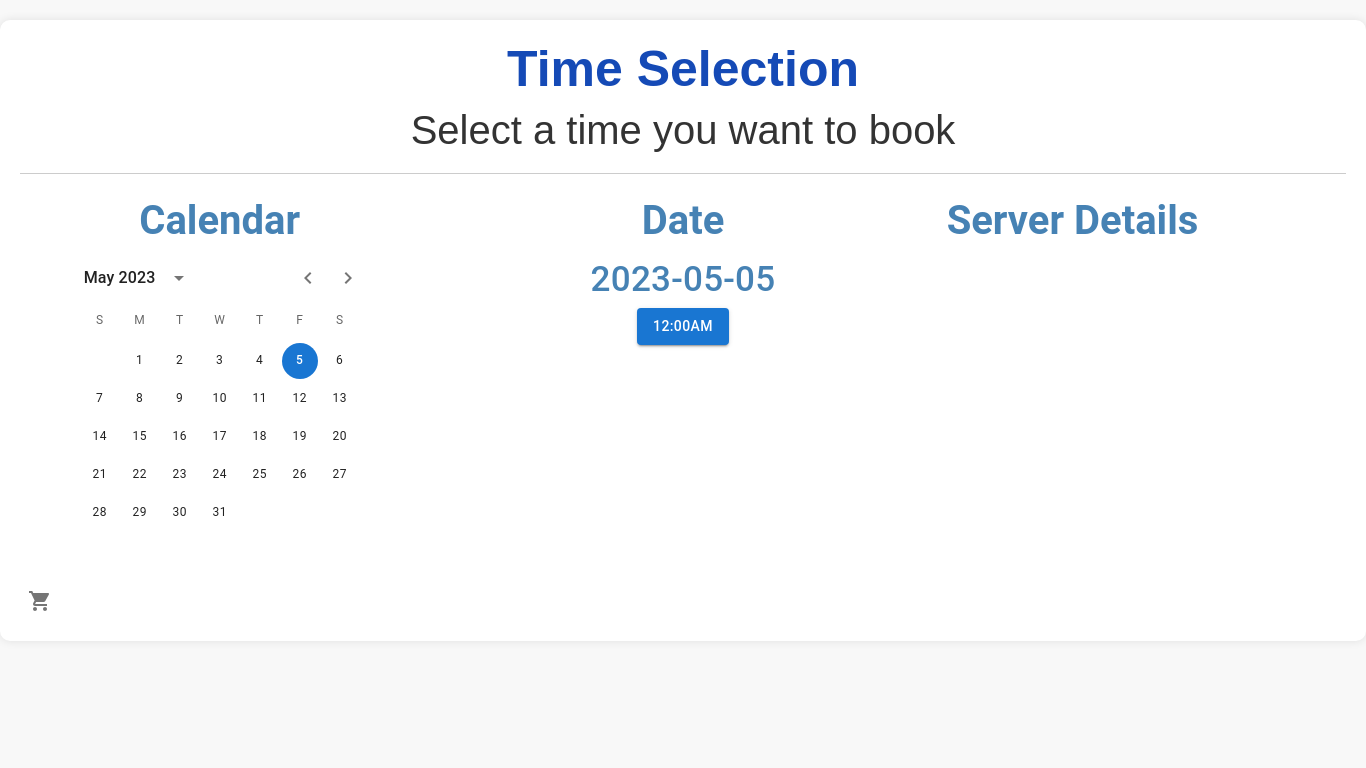
Test: Shopping Cart › close shopping cart
The width and height of the screenshot is (1366, 768).
Click the button named "cart". click: x=40, y=601
box: [20, 581, 60, 621]
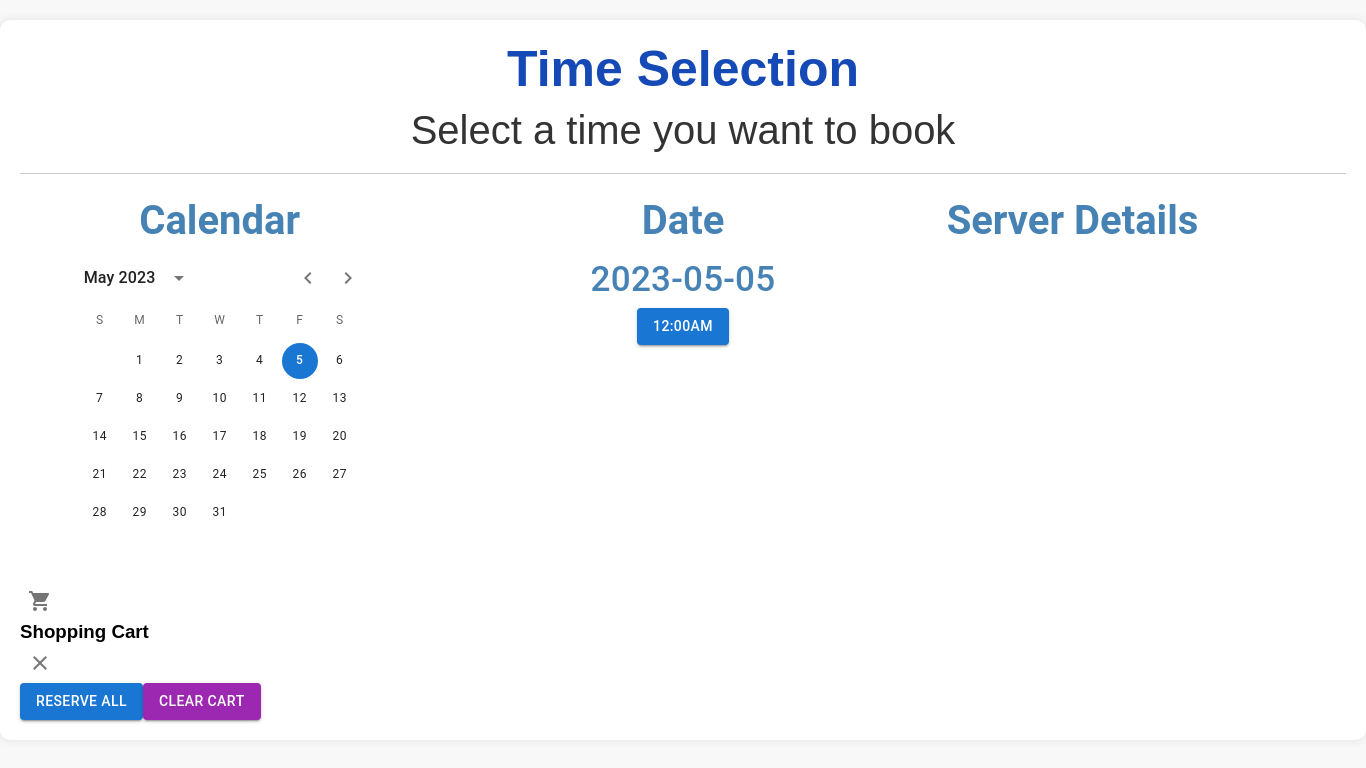
Click the button named "close". click: x=40, y=663
box: [20, 643, 60, 683]
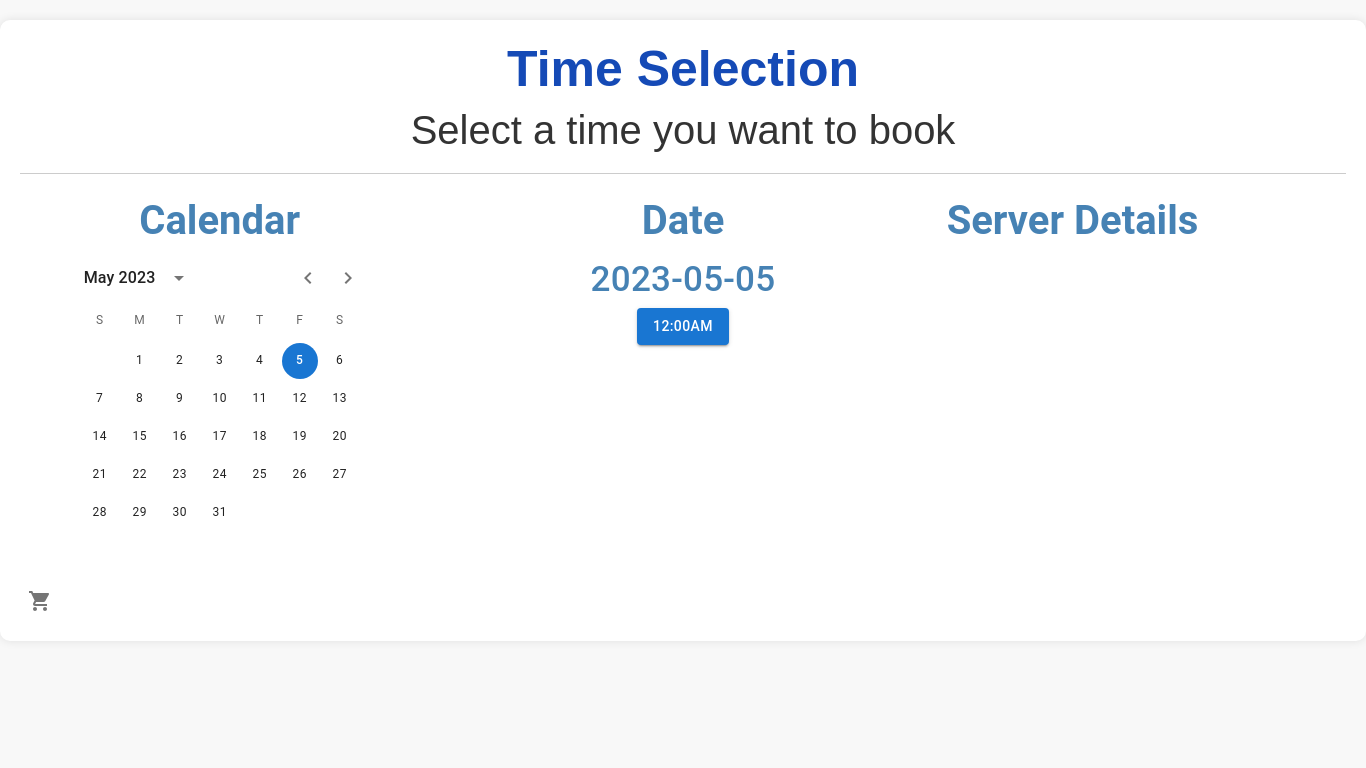
Now the heading "Shopping Cart" is gone
